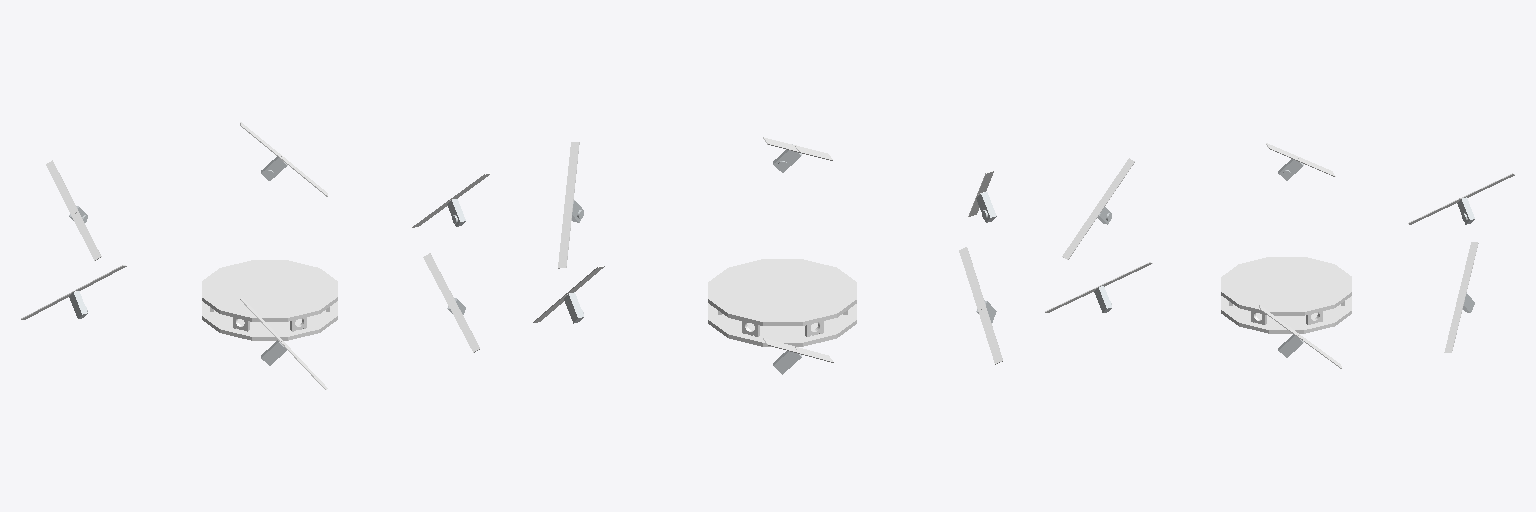
The robot description file, URDF, robot "drone":
<robot name="drone">

<gazebo>
  <plugin name="aero_plugin" filename="libaero_plugin.so">
  </plugin>
</gazebo>

<gazebo>
  <plugin name="control_plugin" filename="libcontrol_plugin.so">
  </plugin>
</gazebo>

<gazebo>
<plugin name="gazebo_ros_control" filename="libgazebo_ros_control.so">
<robotNamespace>/drone</robotNamespace>
</plugin>
</gazebo>

<gazebo>
<plugin name="drone_internal_imu_plugin" filename="libhector_gazebo_ros_imu.so" >
    <alwaysOn>true</alwaysOn>
    <bodyName>base_link</bodyName>
    <frameName>base_link</frameName>
    <topicName>IMU/imu_data</topicName>
    <serviceName>drone/internal_sensors/imu_service</serviceName>
    <updateRate>100.0</updateRate>
    <gaussianNoise>0.001</gaussianNoise>
    <!-- accelerometer params -->
    <accelOffset>0.0 0.0 0.0</accelOffset>
    <accelGaussianNoise>0.0003 0.0003 0.0003</accelGaussianNoise>
    <accelDrift>0.00004 0.00004 0.00004</accelDrift>
    <accelFrequency>0.0025 0.0025 0.0025</accelFrequency>
    <!-- gyroscope params -->
    <rateOffset>0.0 0.0 0.0</rateOffset>
    <rateDrift>0.01 0.01 0.01</rateDrift>
    <rateDriftFrequency>0.001 0.001 0.001</rateDriftFrequency>
    <rateGaussianNoise>0.01 0.01 0.01</rateGaussianNoise>
</plugin>
</gazebo>

<gazebo>
   <plugin name="drone_internal_magnetic_sim" filename="libhector_gazebo_ros_magnetic.so">
     <updateRate>100.0</updateRate>
     <bodyName>base_link</bodyName>
     <frameId>base_link</frameId>
     <topicName>MAGNET/magnetic_data</topicName>
     <offset>0 0 0</offset>
     <drift>0.0 0.0 0.0</drift>
     <gaussianNoise>1.3e-3 1.3e-3 1.3e-3</gaussianNoise>
   </plugin>
 </gazebo>

 <gazebo>
     <plugin name="drone_internal_gps_sim" filename="libhector_gazebo_ros_gps.so">
       <updateRate>4.0</updateRate>
       <bodyName>base_link</bodyName>
       <frameId>base_link</frameId>
       <topicName>GPS/fix</topicName>
       <velocityTopicName>GPS/fix_velocity</velocityTopicName>
       <referenceLatitude>49.860246</referenceLatitude>
       <referenceLongitude>8.687077</referenceLongitude>
       <drift>0.0 0.0 0.0</drift>
       <gaussianNoise>0.01 0.01 0.01</gaussianNoise>
       <velocityDrift>0 0 0</velocityDrift>
       <velocityGaussianNoise>0.01 0.01 0.01</velocityGaussianNoise>
     </plugin>
   </gazebo>

   <!-- camera -->
  <gazebo reference="base_link">
    <sensor type="camera" name="camera1">
      <update_rate>30.0</update_rate>
      <camera name="head">
        <vertical_fov>3.1415926</vertical_fov>
        <image>
          <width>800</width>
          <height>800</height>
          <format>R8G8B8</format>
        </image>
        <clip>
          <near>0.02</near>
          <far>300</far>
        </clip>
        <noise>
          <type>gaussian</type>
          <!-- Noise is sampled independently per pixel on each frame.
               That pixel's noise value is added to each of its color
               channels, which at that point lie in the range [0,1]. -->
          <mean>0.0</mean>
          <stddev>0.007</stddev>
        </noise>
      </camera>
      <plugin name="camera_controller" filename="libgazebo_ros_camera.so">
        <alwaysOn>true</alwaysOn>
        <updateRate>0.0</updateRate>
        <cameraName>camera1</cameraName>
        <imageTopicName>image_raw</imageTopicName>
        <cameraInfoTopicName>camera_info</cameraInfoTopicName>
        <frameName>base_link</frameName>
        <hackBaseline>0.07</hackBaseline>
        <distortionK1>0.0</distortionK1>
        <distortionK2>0.0</distortionK2>
        <distortionK3>0.0</distortionK3>
        <distortionT1>0.0</distortionT1>
        <distortionT2>0.0</distortionT2>
      </plugin>
    </sensor>
  </gazebo>
  <link
    name="base_link">
    <inertial>
      <origin
        xyz="7.2098E-07 -2.0914E-07 0.11714"
        rpy="0 0 0" />
      <mass
        value="10.223" />
      <inertia
        ixx="0.39298"
        ixy="-5.4134E-07"
        ixz="-5.281E-08"
        iyy="0.39298"
        iyz="-1.1492E-07"
        izz="0.77449" />
    </inertial>
    <visual>
      <origin
        xyz="0 0 0"
        rpy="0 0 0" />
      <geometry>
        <mesh
          filename="package://flypulator_description/meshes/base_link.STL" />
      </geometry>
      <material
        name="">
        <color
          rgba="1 1 1 1" />
      </material>
    </visual>
    <collision>
      <origin
        xyz="0 0 0"
        rpy="0 0 0" />
      <geometry>
        <mesh
          filename="package://flypulator_description/meshes/base_link.STL" />
      </geometry>
    </collision>
  </link>
  <link
    name="motor_Link1">
    <inertial>
      <origin
        xyz="0.00053889 -2.7756E-17 0.029473"
        rpy="0 0 0" />
      <mass
        value="0.082637" />
      <inertia
        ixx="3.0939E-05"
        ixy="-5.0822E-21"
        ixz="6.445E-07"
        iyy="2.7112E-05"
        iyz="8.0468E-21"
        izz="8.0573E-06" />
    </inertial>
    <visual>
      <origin
        xyz="0 0 0"
        rpy="0 0 0" />
      <geometry>
        <mesh
          filename="package://flypulator_description/meshes/motor_Link1.STL" />
      </geometry>
      <material
        name="">
        <color
          rgba="0.89804 0.91765 0.92941 1" />
      </material>
    </visual>
    <collision>
      <origin
        xyz="0 0 0"
        rpy="0 0 0" />
      <geometry>
        <mesh
          filename="package://flypulator_description/meshes/motor_Link1.STL" />
      </geometry>
    </collision>
  </link>
  <joint
    name="motor_joint1"
    type="fixed">
    <origin
      xyz="-0.27069 -0.44763 0.11439"
      rpy="0.7854 0 1.0472" />
    <parent
      link="base_link" />
    <child
      link="motor_Link1" />
    <axis
      xyz="0 0 0" />
  </joint>
  <link
    name="blade_Link1">
    <inertial>
      <origin
        xyz="0 -5.5511E-17 7.2446E-06"
        rpy="0 0 0" />
      <mass
        value="0.02171" />
      <inertia
        ixx="0.00015037"
        ixy="-3.8388E-05"
        ixz="-5.421E-20"
        iyy="1.0581E-05"
        iyz="-2.287E-19"
        izz="0.00016094" />
    </inertial>
    <visual>
      <origin
        xyz="0 0 0"
        rpy="0 0 0" />
      <geometry>
        <mesh
          filename="package://flypulator_description/meshes/blade_Link1.STL" />
      </geometry>
      <material
        name="">
        <color
          rgba="1 1 1 1" />
      </material>
    </visual>
    <collision>
      <origin
        xyz="0 0 0"
        rpy="0 0 0" />
      <geometry>
        <mesh
          filename="package://flypulator_description/meshes/blade_Link1.STL" />
      </geometry>
    </collision>
  </link>
  <joint
    name="blade_joint1"
    type="continuous">
    <origin
      xyz="0 0 0.063"
      rpy="8.3267E-17 0 -1.1102E-16" />
    <parent
      link="motor_Link1" />
    <child
      link="blade_Link1" />
    <axis
      xyz="0 0 1" />
  </joint>
  <link
    name="motor_Link2">
    <inertial>
      <origin
        xyz="-0.00053889 -5.5511E-17 0.029473"
        rpy="0 0 0" />
      <mass
        value="0.082637" />
      <inertia
        ixx="3.0939E-05"
        ixy="6.7763E-21"
        ixz="-6.445E-07"
        iyy="2.7112E-05"
        iyz="4.0234E-21"
        izz="8.0573E-06" />
    </inertial>
    <visual>
      <origin
        xyz="0 0 0"
        rpy="0 0 0" />
      <geometry>
        <mesh
          filename="package://flypulator_description/meshes/motor_Link2.STL" />
      </geometry>
      <material
        name="">
        <color
          rgba="0.89804 0.91765 0.92941 1" />
      </material>
    </visual>
    <collision>
      <origin
        xyz="0 0 0"
        rpy="0 0 0" />
      <geometry>
        <mesh
          filename="package://flypulator_description/meshes/motor_Link2.STL" />
      </geometry>
    </collision>
  </link>
  <joint
    name="motor_joint2"
    type="fixed">
    <origin
      xyz="0.27069 -0.44763 0.11439"
      rpy="0.7854 0 -1.0472" />
    <parent
      link="base_link" />
    <child
      link="motor_Link2" />
    <axis
      xyz="0 0 0" />
  </joint>
  <link
    name="blade_Link2">
    <inertial>
      <origin
        xyz="0 2.7756E-17 7.2446E-06"
        rpy="0 0 0" />
      <mass
        value="0.02171" />
      <inertia
        ixx="7.3254E-05"
        ixy="7.9416E-05"
        ixz="-7.708E-20"
        iyy="8.7699E-05"
        iyz="5.1669E-20"
        izz="0.00016094" />
    </inertial>
    <visual>
      <origin
        xyz="0 0 0"
        rpy="0 0 0" />
      <geometry>
        <mesh
          filename="package://flypulator_description/meshes/blade_Link2.STL" />
      </geometry>
      <material
        name="">
        <color
          rgba="1 1 1 1" />
      </material>
    </visual>
    <collision>
      <origin
        xyz="0 0 0"
        rpy="0 0 0" />
      <geometry>
        <mesh
          filename="package://flypulator_description/meshes/blade_Link2.STL" />
      </geometry>
    </collision>
  </link>
  <joint
    name="blade_joint2"
    type="continuous">
    <origin
      xyz="0 0 0.063"
      rpy="-1.3878E-17 0 0" />
    <parent
      link="motor_Link2" />
    <child
      link="blade_Link2" />
    <axis
      xyz="0 0 1" />
  </joint>
  <link
    name="motor_Link3">
    <inertial>
      <origin
        xyz="0.00053889 -1.3878E-17 0.029473"
        rpy="0 0 0" />
      <mass
        value="0.082637" />
      <inertia
        ixx="3.0939E-05"
        ixy="5.8234E-22"
        ixz="6.445E-07"
        iyy="2.7112E-05"
        iyz="-5.9292E-21"
        izz="8.0573E-06" />
    </inertial>
    <visual>
      <origin
        xyz="0 0 0"
        rpy="0 0 0" />
      <geometry>
        <mesh
          filename="package://flypulator_description/meshes/motor_Link3.STL" />
      </geometry>
      <material
        name="">
        <color
          rgba="0.89804 0.91765 0.92941 1" />
      </material>
    </visual>
    <collision>
      <origin
        xyz="0 0 0"
        rpy="0 0 0" />
      <geometry>
        <mesh
          filename="package://flypulator_description/meshes/motor_Link3.STL" />
      </geometry>
    </collision>
  </link>
  <joint
    name="motor_joint3"
    type="fixed">
    <origin
      xyz="0.523 -0.010607 0.11439"
      rpy="0.7854 0 3.1416" />
    <parent
      link="base_link" />
    <child
      link="motor_Link3" />
    <axis
      xyz="0 0 0" />
  </joint>
  <link
    name="blade_Link3">
    <inertial>
      <origin
        xyz="0 -1.3878E-17 7.2446E-06"
        rpy="0 0 0" />
      <mass
        value="0.02171" />
      <inertia
        ixx="0.00014768"
        ixy="4.2933E-05"
        ixz="2.7105E-20"
        iyy="1.3276E-05"
        iyz="-6.9457E-20"
        izz="0.00016094" />
    </inertial>
    <visual>
      <origin
        xyz="0 0 0"
        rpy="0 0 0" />
      <geometry>
        <mesh
          filename="package://flypulator_description/meshes/blade_Link3.STL" />
      </geometry>
      <material
        name="">
        <color
          rgba="1 1 1 1" />
      </material>
    </visual>
    <collision>
      <origin
        xyz="0 0 0"
        rpy="0 0 0" />
      <geometry>
        <mesh
          filename="package://flypulator_description/meshes/blade_Link3.STL" />
      </geometry>
    </collision>
  </link>
  <joint
    name="blade_joint3"
    type="continuous">
    <origin
      xyz="0 0 0.063"
      rpy="0 0 0" />
    <parent
      link="motor_Link3" />
    <child
      link="blade_Link3" />
    <axis
      xyz="0 0 1" />
  </joint>
  <link
    name="motor_Link4">
    <inertial>
      <origin
        xyz="-0.00053889 -8.3267E-17 0.029473"
        rpy="0 0 0" />
      <mass
        value="0.082637" />
      <inertia
        ixx="3.0939E-05"
        ixy="-3.3881E-21"
        ixz="-6.445E-07"
        iyy="2.7112E-05"
        iyz="6.2469E-21"
        izz="8.0573E-06" />
    </inertial>
    <visual>
      <origin
        xyz="0 0 0"
        rpy="0 0 0" />
      <geometry>
        <mesh
          filename="package://flypulator_description/meshes/motor_Link4.STL" />
      </geometry>
      <material
        name="">
        <color
          rgba="0.89804 0.91765 0.92941 1" />
      </material>
    </visual>
    <collision>
      <origin
        xyz="0 0 0"
        rpy="0 0 0" />
      <geometry>
        <mesh
          filename="package://flypulator_description/meshes/motor_Link4.STL" />
      </geometry>
    </collision>
  </link>
  <joint
    name="motor_joint4"
    type="fixed">
    <origin
      xyz="0.25231 0.45823 0.11439"
      rpy="0.7854 0 1.0472" />
    <parent
      link="base_link" />
    <child
      link="motor_Link4" />
    <axis
      xyz="0 0 0" />
  </joint>
  <link
    name="blade_Link4">
    <inertial>
      <origin
        xyz="2.2204E-16 -5.6899E-16 7.2446E-06"
        rpy="0 0 0" />
      <mass
        value="0.02171" />
      <inertia
        ixx="0.00015683"
        ixy="2.3E-05"
        ixz="-2.0329E-20"
        iyy="4.1213E-06"
        iyz="1.135E-19"
        izz="0.00016094" />
    </inertial>
    <visual>
      <origin
        xyz="0 0 0"
        rpy="0 0 0" />
      <geometry>
        <mesh
          filename="package://flypulator_description/meshes/blade_Link4.STL" />
      </geometry>
      <material
        name="">
        <color
          rgba="1 1 1 1" />
      </material>
    </visual>
    <collision>
      <origin
        xyz="0 0 0"
        rpy="0 0 0" />
      <geometry>
        <mesh
          filename="package://flypulator_description/meshes/blade_Link4.STL" />
      </geometry>
    </collision>
  </link>
  <joint
    name="blade_joint4"
    type="continuous">
    <origin
      xyz="0 0 0.063"
      rpy="-8.3267E-17 0 -1.1102E-16" />
    <parent
      link="motor_Link4" />
    <child
      link="blade_Link4" />
    <axis
      xyz="0 0 1" />
  </joint>
  <link
    name="motor_Link5">
    <inertial>
      <origin
        xyz="0.00053889 1.3878E-17 0.029473"
        rpy="0 0 0" />
      <mass
        value="0.082637" />
      <inertia
        ixx="3.0939E-05"
        ixy="2.5411E-21"
        ixz="6.445E-07"
        iyy="2.7112E-05"
        iyz="-6.988E-21"
        izz="8.0573E-06" />
    </inertial>
    <visual>
      <origin
        xyz="0 0 0"
        rpy="0 0 0" />
      <geometry>
        <mesh
          filename="package://flypulator_description/meshes/motor_Link5.STL" />
      </geometry>
      <material
        name="">
        <color
          rgba="0.89804 0.91765 0.92941 1" />
      </material>
    </visual>
    <collision>
      <origin
        xyz="0 0 0"
        rpy="0 0 0" />
      <geometry>
        <mesh
          filename="package://flypulator_description/meshes/motor_Link5.STL" />
      </geometry>
    </collision>
  </link>
  <joint
    name="motor_joint5"
    type="fixed">
    <origin
      xyz="-0.25231 0.45823 0.11439"
      rpy="0.7854 0 -1.0472" />
    <parent
      link="base_link" />
    <child
      link="motor_Link5" />
    <axis
      xyz="0 0 0" />
  </joint>
  <link
    name="blade_Link5">
    <inertial>
      <origin
        xyz="-1.1102E-16 1.8041E-16 7.2446E-06"
        rpy="0 0 0" />
      <mass
        value="0.02171" />
      <inertia
        ixx="7.5383E-05"
        ixy="7.9581E-05"
        ixz="-7.0304E-20"
        iyy="8.557E-05"
        iyz="5.3363E-20"
        izz="0.00016094" />
    </inertial>
    <visual>
      <origin
        xyz="0 0 0"
        rpy="0 0 0" />
      <geometry>
        <mesh
          filename="package://flypulator_description/meshes/blade_Link5.STL" />
      </geometry>
      <material
        name="">
        <color
          rgba="1 1 1 1" />
      </material>
    </visual>
    <collision>
      <origin
        xyz="0 0 0"
        rpy="0 0 0" />
      <geometry>
        <mesh
          filename="package://flypulator_description/meshes/blade_Link5.STL" />
      </geometry>
    </collision>
  </link>
  <joint
    name="blade_joint5"
    type="continuous">
    <origin
      xyz="0 0 0.063"
      rpy="0 0 5.5511E-17" />
    <parent
      link="motor_Link5" />
    <child
      link="blade_Link5" />
    <axis
      xyz="0 0 1" />
  </joint>
  <link
    name="motor_Link6">
    <inertial>
      <origin
        xyz="-0.00053889 0 0.029473"
        rpy="0 0 0" />
      <mass
        value="0.082637" />
      <inertia
        ixx="3.0939E-05"
        ixy="-3.7058E-22"
        ixz="-6.445E-07"
        iyy="2.7112E-05"
        iyz="-1.6941E-21"
        izz="8.0573E-06" />
    </inertial>
    <visual>
      <origin
        xyz="0 0 0"
        rpy="0 0 0" />
      <geometry>
        <mesh
          filename="package://flypulator_description/meshes/motor_Link6.STL" />
      </geometry>
      <material
        name="">
        <color
          rgba="0.89804 0.91765 0.92941 1" />
      </material>
    </visual>
    <collision>
      <origin
        xyz="0 0 0"
        rpy="0 0 0" />
      <geometry>
        <mesh
          filename="package://flypulator_description/meshes/motor_Link6.STL" />
      </geometry>
    </collision>
  </link>
  <joint
    name="motor_joint6"
    type="fixed">
    <origin
      xyz="-0.523 -0.010607 0.11439"
      rpy="0.7854 0 3.1416" />
    <parent
      link="base_link" />
    <child
      link="motor_Link6" />
    <axis
      xyz="0 0 0" />
  </joint>
  <link
    name="blade_Link6">
    <inertial>
      <origin
        xyz="1.1102E-16 4.1633E-17 7.2446E-06"
        rpy="0 0 0" />
      <mass
        value="0.02171" />
      <inertia
        ixx="9.7974E-05"
        ixy="7.7801E-05"
        ixz="-8.8091E-20"
        iyy="6.2979E-05"
        iyz="1.152E-19"
        izz="0.00016094" />
    </inertial>
    <visual>
      <origin
        xyz="0 0 0"
        rpy="0 0 0" />
      <geometry>
        <mesh
          filename="package://flypulator_description/meshes/blade_Link6.STL" />
      </geometry>
      <material
        name="">
        <color
          rgba="1 1 1 1" />
      </material>
    </visual>
    <collision>
      <origin
        xyz="0 0 0"
        rpy="0 0 0" />
      <geometry>
        <mesh
          filename="package://flypulator_description/meshes/blade_Link6.STL" />
      </geometry>
    </collision>
  </link>
  <joint
    name="blade_joint6"
    type="continuous">
    <origin
      xyz="0 0 0.063"
      rpy="0 0 0" />
    <parent
      link="motor_Link6" />
    <child
      link="blade_Link6" />
    <axis
      xyz="0 0 1" />
  </joint>
<transmission name="tran1">
    <type>transmission_interface/SimpleTransmission</type>
    <joint name="blade_joint1">
    <hardwareInterface>EffortJointInterface</hardwareInterface>
    </joint>
    <actuator name="motor1">
      <hardwareInterface>EffortJointInterface</hardwareInterface>
      <mechanicalReduction>1</mechanicalReduction>
    </actuator>
  </transmission>
  <transmission name="tran2">
    <type>transmission_interface/SimpleTransmission</type>
    <joint name="blade_joint2">
      <hardwareInterface>EffortJointInterface</hardwareInterface>
    </joint>
    <actuator name="motor2">
      <hardwareInterface>EffortJointInterface</hardwareInterface>
      <mechanicalReduction>1</mechanicalReduction>
    </actuator>
  </transmission>
  <transmission name="tran3">
    <type>transmission_interface/SimpleTransmission</type>
    <joint name="blade_joint3">
      <hardwareInterface>EffortJointInterface</hardwareInterface>
    </joint>
    <actuator name="motor3">
      <hardwareInterface>EffortJointInterface</hardwareInterface>
      <mechanicalReduction>1</mechanicalReduction>
    </actuator>
  </transmission>
  <transmission name="tran4">
    <type>transmission_interface/SimpleTransmission</type>
    <joint name="blade_joint4">
      <hardwareInterface>EffortJointInterface</hardwareInterface>
    </joint>
    <actuator name="motor4">
      <hardwareInterface>EffortJointInterface</hardwareInterface>
      <mechanicalReduction>1</mechanicalReduction>
    </actuator>
  </transmission>
  <transmission name="tran5">
    <type>transmission_interface/SimpleTransmission</type>
    <joint name="blade_joint5">
      <hardwareInterface>EffortJointInterface</hardwareInterface>
    </joint>
    <actuator name="motor5">
      <hardwareInterface>EffortJointInterface</hardwareInterface>
      <mechanicalReduction>1</mechanicalReduction>
    </actuator>
  </transmission>
  <transmission name="tran6">
    <type>transmission_interface/SimpleTransmission</type>
    <joint name="blade_joint6">
      <hardwareInterface>EffortJointInterface</hardwareInterface>
    </joint>
    <actuator name="motor6">
      <hardwareInterface>EffortJointInterface</hardwareInterface>
      <mechanicalReduction>1</mechanicalReduction>
    </actuator>
  </transmission>

</robot>

--- Render facts (derived) ---
Views: 3 orthographic renders of the robot side by side, from view 1: azimuth 30°, elevation 25°; view 2: azimuth 150°, elevation 25°; view 3: azimuth 270°, elevation 25°.
Model drone with 13 links and 12 joints (6 continuous, 6 fixed), rooted at base_link, posed all joints at 0.
Links seen in each view (by area): view 1: base_link, blade_Link2, blade_Link5; view 2: base_link, blade_Link3, blade_Link6; view 3: base_link, blade_Link1, blade_Link4.
Link boxes in pixels (x1=…): base_link: x1=202, y1=260, x2=337, y2=340; blade_Link2: x1=423, y1=253, x2=479, y2=352; blade_Link5: x1=46, y1=160, x2=101, y2=260; base_link: x1=708, y1=259, x2=856, y2=346; blade_Link3: x1=558, y1=142, x2=579, y2=268; blade_Link6: x1=959, y1=247, x2=1002, y2=364; base_link: x1=1221, y1=257, x2=1351, y2=333; blade_Link1: x1=1062, y1=158, x2=1134, y2=259; blade_Link4: x1=1444, y1=242, x2=1478, y2=352.
Size in the robot's own frame: 1.2 by 1.18 by 0.2656 metres.
Meshes: 13 distinct files referenced, 13 mesh visuals loaded (13 binary STL).
